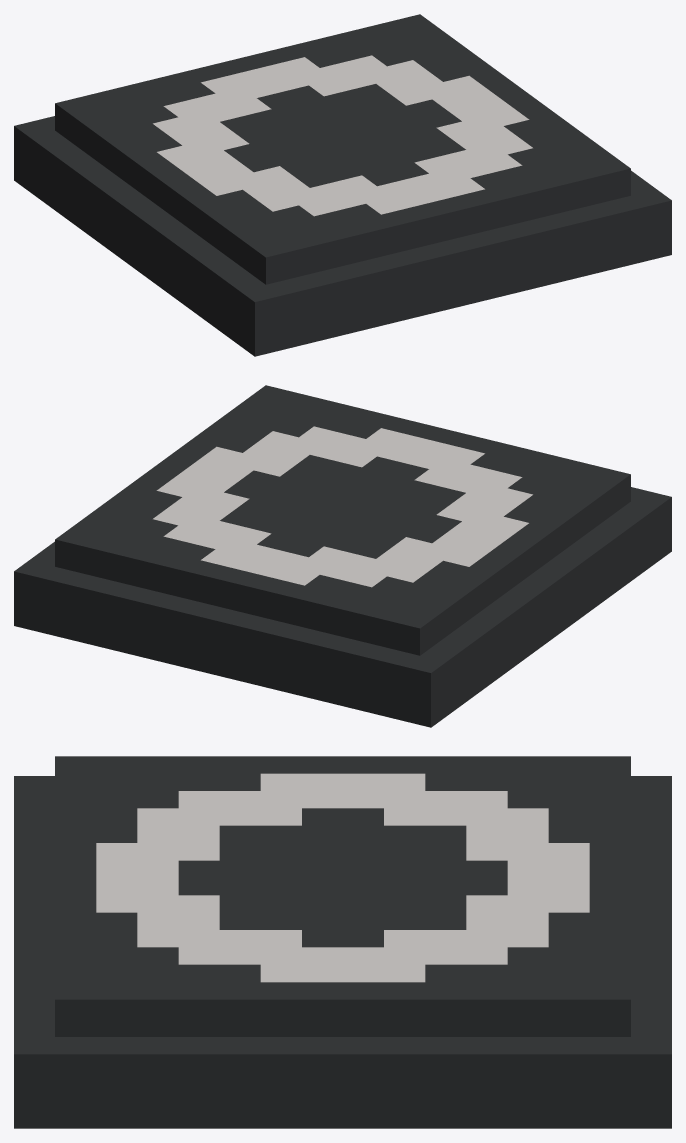
File: o-v4-black-white.gltf
3 renders of one model, top to bottom at view 1: azimuth 30°, elevation 25°; view 2: azimuth 150°, elevation 25°; view 3: azimuth 270°, elevation 25°, orthographic. The views are drawn at different scales.
Parts seen in each view (by area): view 1: Untitled; view 2: Untitled; view 3: Untitled.
Boxes of the visible parts, box(x1,y1,x2,y2) form: Untitled: box(14, 14, 671, 356); Untitled: box(14, 385, 671, 727); Untitled: box(14, 756, 671, 1128).
Bounding box in the file's own units: 1.6 × 0.3 × 1.6.
1 material, 1 textured.
